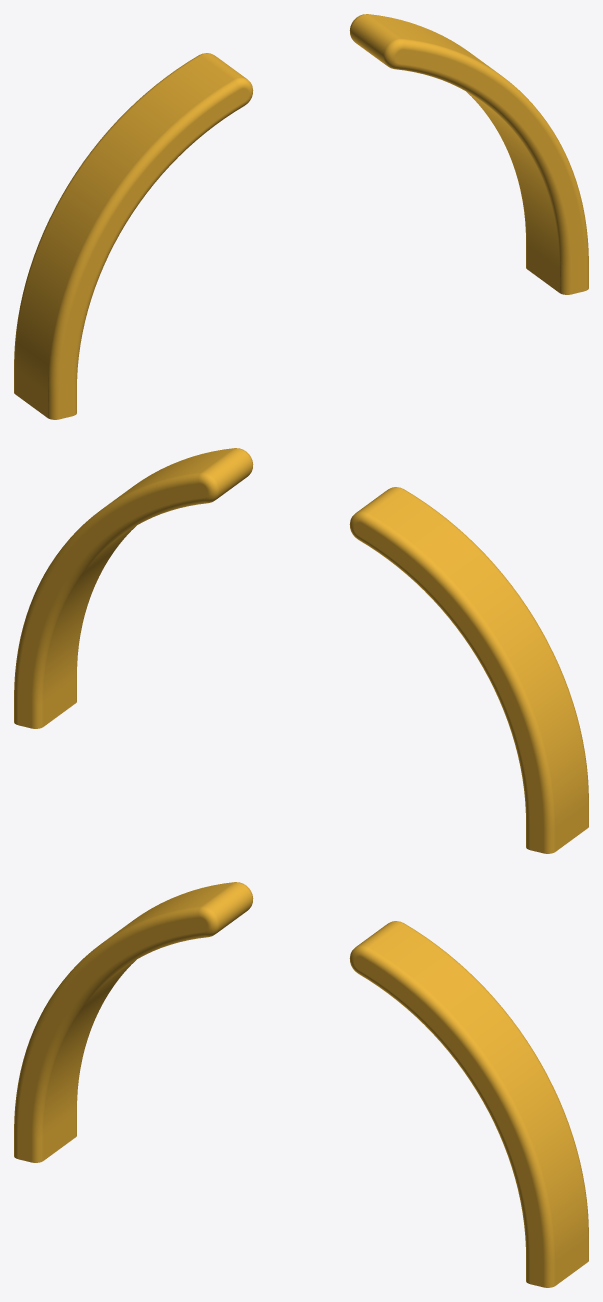
The model's file is FG_BandGold.fbx.
3 views of the same model, one above another, from view 1: azimuth 30°, elevation 25°; view 2: azimuth 150°, elevation 25°; view 3: azimuth 330°, elevation 25° (orthographic).
Visible parts, largest first — view 1: FG_BandGold; view 2: FG_BandGold; view 3: FG_BandGold.
Boxes of the visible parts, x1,y1,x2,y2 form: FG_BandGold: [14, 14, 588, 419]; FG_BandGold: [14, 448, 588, 853]; FG_BandGold: [14, 882, 588, 1287].
Size of the model in its own units: 23 by 11.96 by 3.04.
